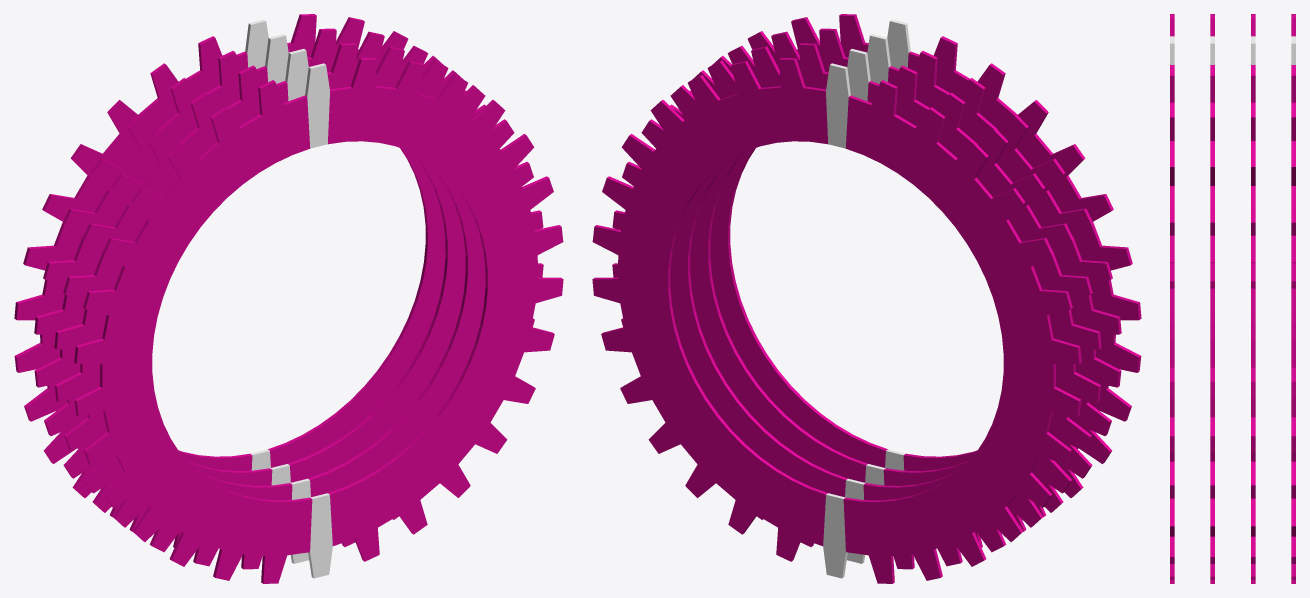
The model's file is clutch pack 657.fbx.
3 renders of one model, left to right at view 1: azimuth 30°, elevation 25°; view 2: azimuth 150°, elevation 25°; view 3: azimuth 270°, elevation 25°, orthographic.
Parts seen in each view (by area): view 1: 657D, 657C, 657B, 657A; view 2: 657A, 657B, 657C, 657D; view 3: 657C, 657D, 657B, 657A.
Boxes of the visible parts, bbox=[...] form: 657D: bbox=[74, 58, 563, 583]; 657C: bbox=[54, 43, 543, 569]; 657B: bbox=[34, 28, 485, 547]; 657A: bbox=[14, 14, 465, 517]; 657A: bbox=[592, 58, 1081, 583]; 657B: bbox=[612, 43, 1101, 569]; 657C: bbox=[670, 28, 1121, 547]; 657D: bbox=[690, 14, 1141, 517]; 657C: bbox=[1210, 14, 1214, 583]; 657D: bbox=[1170, 14, 1174, 583]; 657B: bbox=[1251, 14, 1255, 583]; 657A: bbox=[1291, 14, 1295, 583].
Bounding box in the file's own units: 1250 × 1253 × 277.
